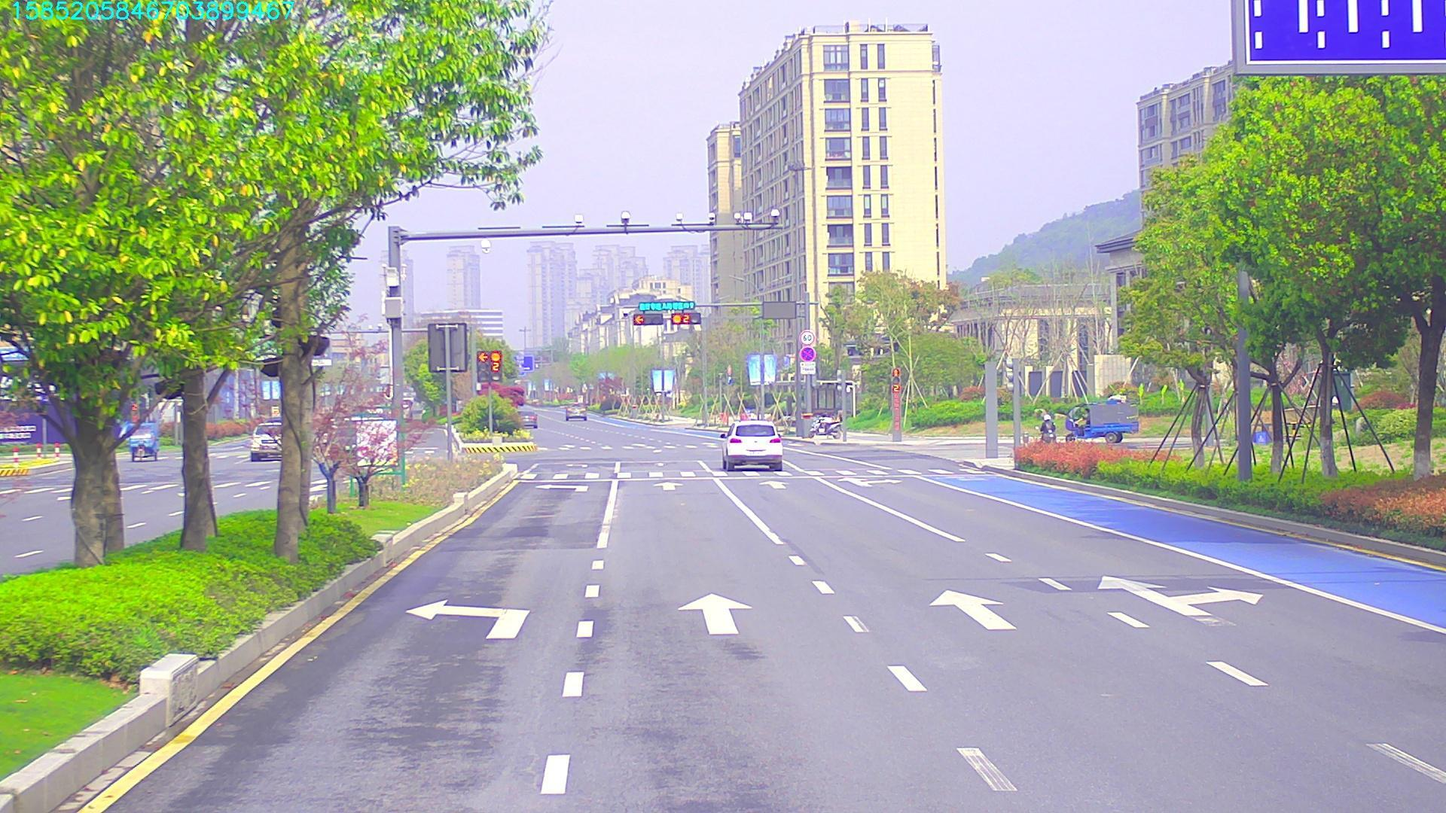red: (669, 309, 698, 328), (633, 311, 664, 328)
wait_on: (636, 297, 695, 310)
